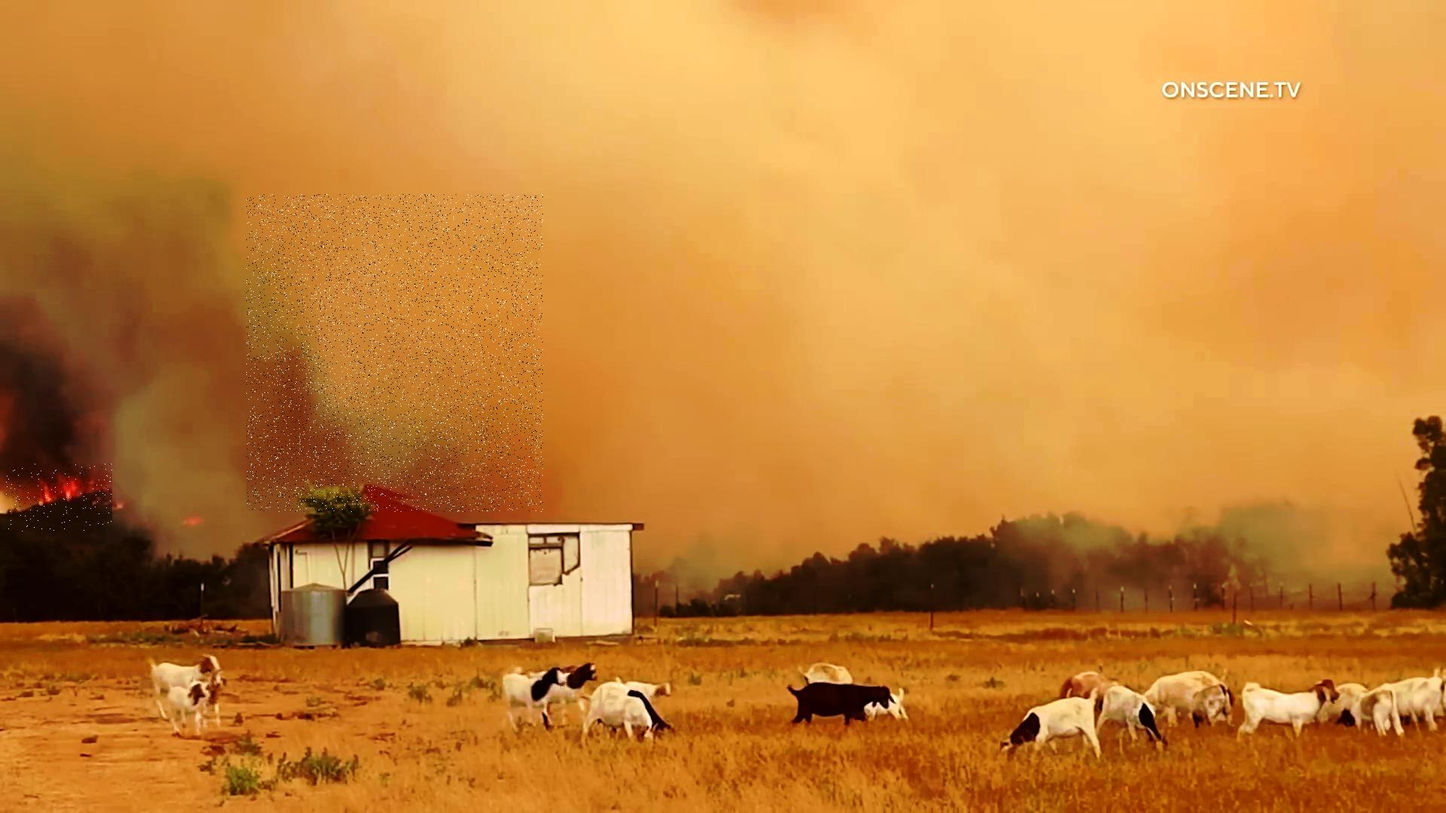fire: (6, 464, 112, 532)
smoke: (246, 194, 543, 512)
